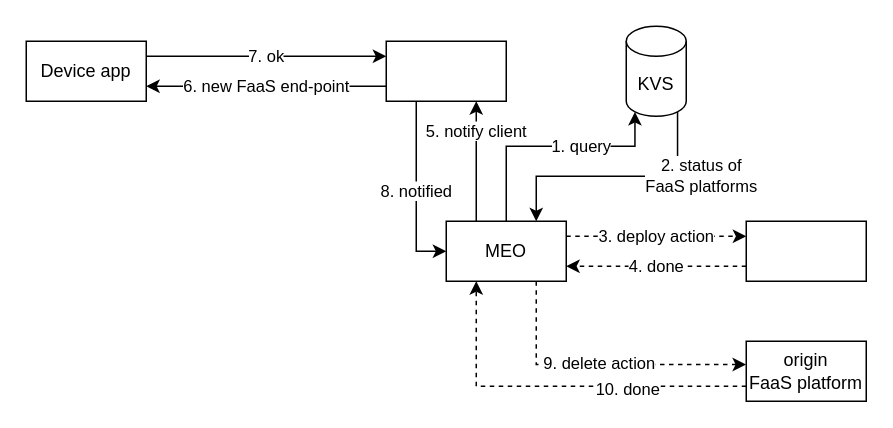
Some shapes in this 893 by 428 pixel diagram are drawn without their labels. Here are the shapes that lost their labels. From the top down, the centre of each, then its label:
At (x=445, y=70): "LCMP".
At (x=805, y=250): "target FaaS platform".
